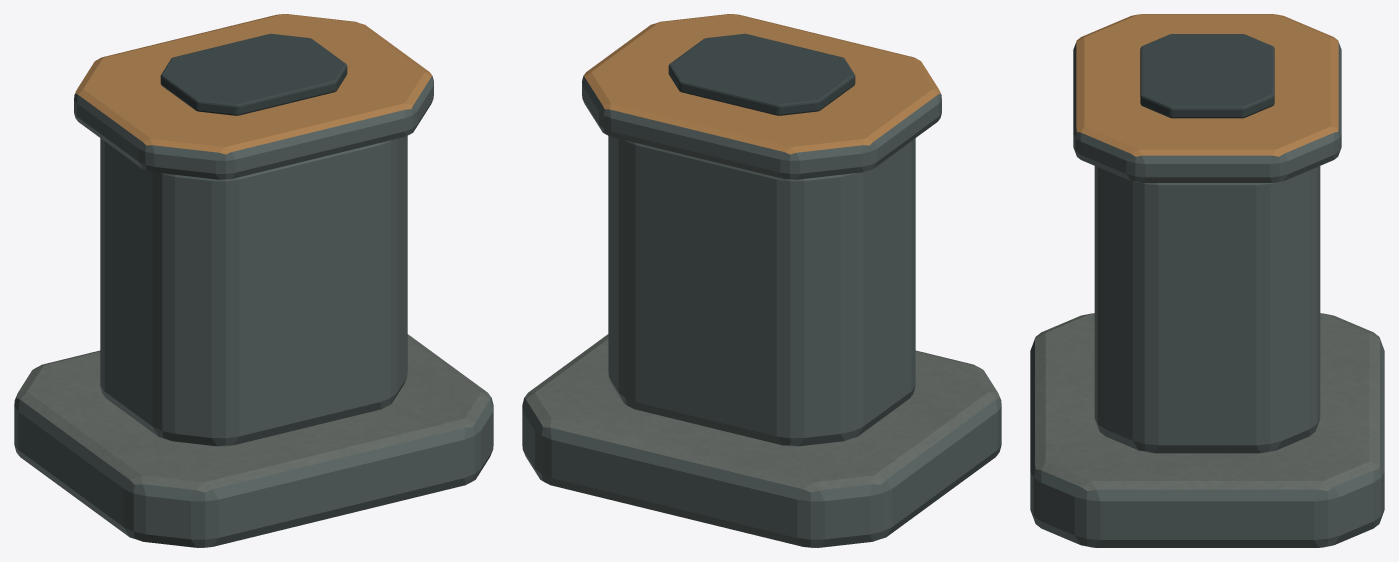
Rendered from ruin_marker.glb.
3 views of the same model, side by side, from view 1: azimuth 30°, elevation 25°; view 2: azimuth 150°, elevation 25°; view 3: azimuth 270°, elevation 25° (orthographic).
Parts seen in each view (by area): view 1: Waystone body, Waystone foot, Warm waystone cap, Dark inset crown; view 2: Waystone body, Waystone foot, Warm waystone cap, Dark inset crown; view 3: Waystone body, Waystone foot, Warm waystone cap, Dark inset crown.
Part boxes in pixels (box(x1,y1,x2,y2)): Waystone body: box(100, 136, 407, 446); Waystone foot: box(14, 334, 493, 547); Warm waystone cap: box(74, 14, 433, 179); Dark inset crown: box(160, 33, 347, 115); Waystone body: box(608, 136, 915, 446); Waystone foot: box(522, 334, 1001, 547); Warm waystone cap: box(582, 14, 941, 179); Dark inset crown: box(668, 33, 855, 115); Waystone body: box(1094, 166, 1320, 453); Waystone foot: box(1030, 313, 1384, 547); Warm waystone cap: box(1073, 14, 1341, 182); Dark inset crown: box(1140, 34, 1274, 118).
Size of the model in its own units: 0.7 by 0.711 by 0.58.
5 materials, 2 textured.
